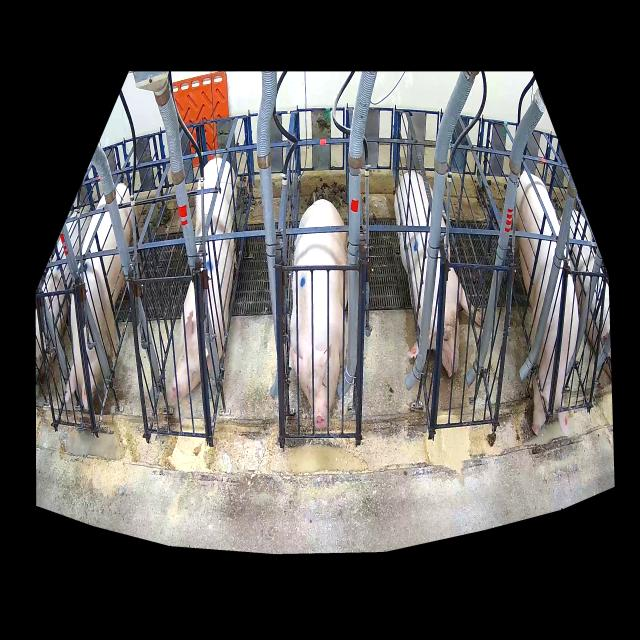pig: (395, 172, 482, 378), (514, 172, 578, 435), (172, 158, 237, 402), (70, 183, 133, 410), (290, 199, 348, 428)
